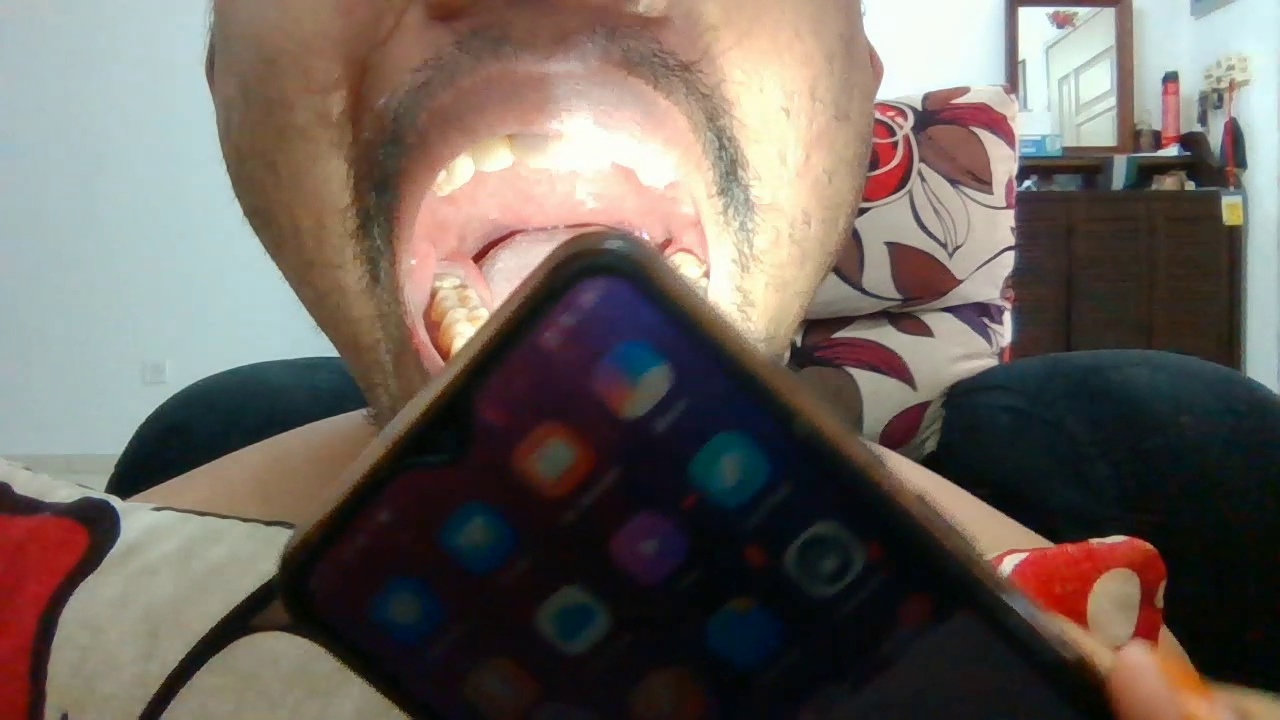1st Molar: (438, 307, 489, 336)
2nd Molar: (430, 289, 484, 308)
3rd Molar: (664, 251, 708, 280), (431, 268, 469, 290)
Canine: (438, 153, 475, 188)
Central Incisor: (509, 132, 552, 163)
Lateral Incisor: (472, 138, 516, 173)
